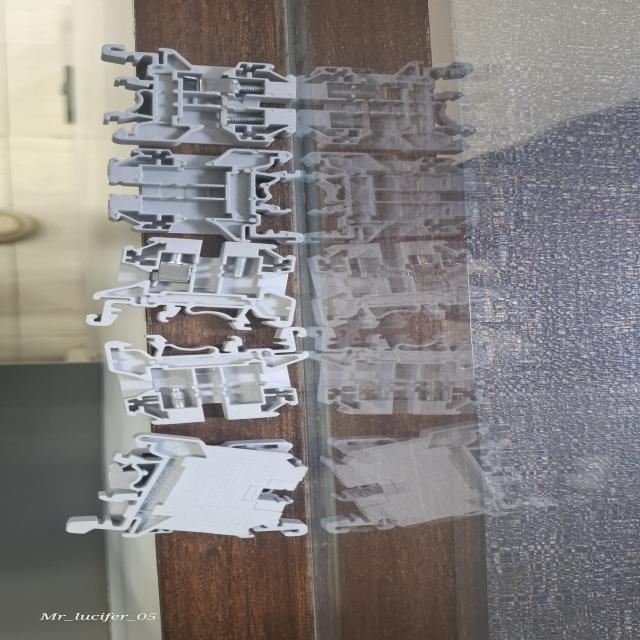Inverted: (67, 432, 306, 539)
Reject: (98, 41, 299, 148), (81, 236, 297, 330), (105, 327, 309, 425), (100, 147, 304, 244)
